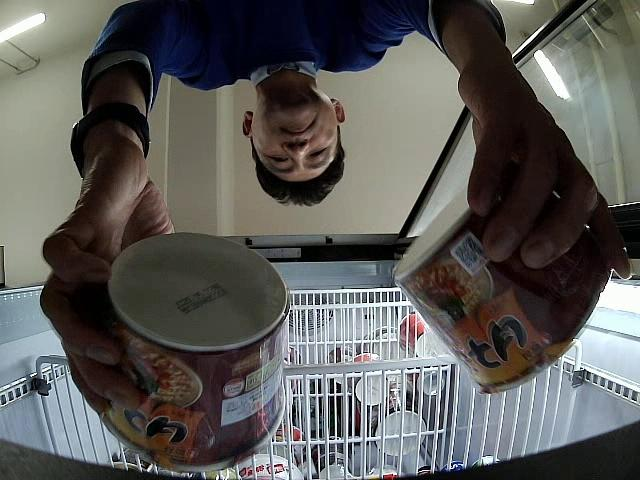00_hand: (457, 46, 633, 280), (40, 146, 173, 416)
05_nuguri_L: (394, 185, 613, 395), (100, 233, 290, 473)
